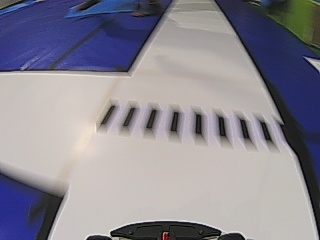CrossWalk: (95, 109, 273, 138)
